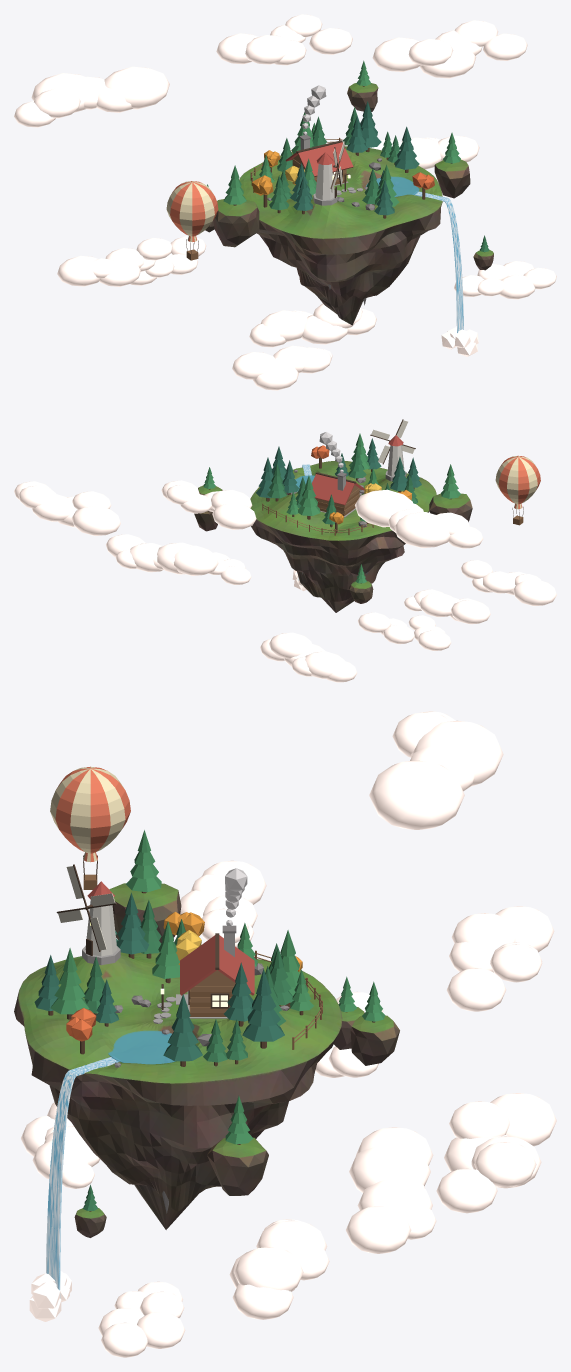
3 views of the same model, one above another, from view 1: azimuth 30°, elevation 25°; view 2: azimuth 150°, elevation 25°; view 3: azimuth 270°, elevation 25° (orthographic). The views are drawn at different scales.
Visible parts, largest first — view 1: s2_v1; view 2: s2_v1; view 3: s2_v1.
Boxes of the visible parts, x1=… form: s2_v1: x1=14, y1=14, x2=556, y2=390; s2_v1: x1=14, y1=419, x2=556, y2=682; s2_v1: x1=14, y1=711, x2=556, y2=1357.
Bounding box in the file's own units: 36.01 × 17.17 × 20.13.
23 materials, 2 textured.
